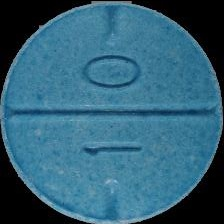63629-3768: (0, 0, 224, 224)
